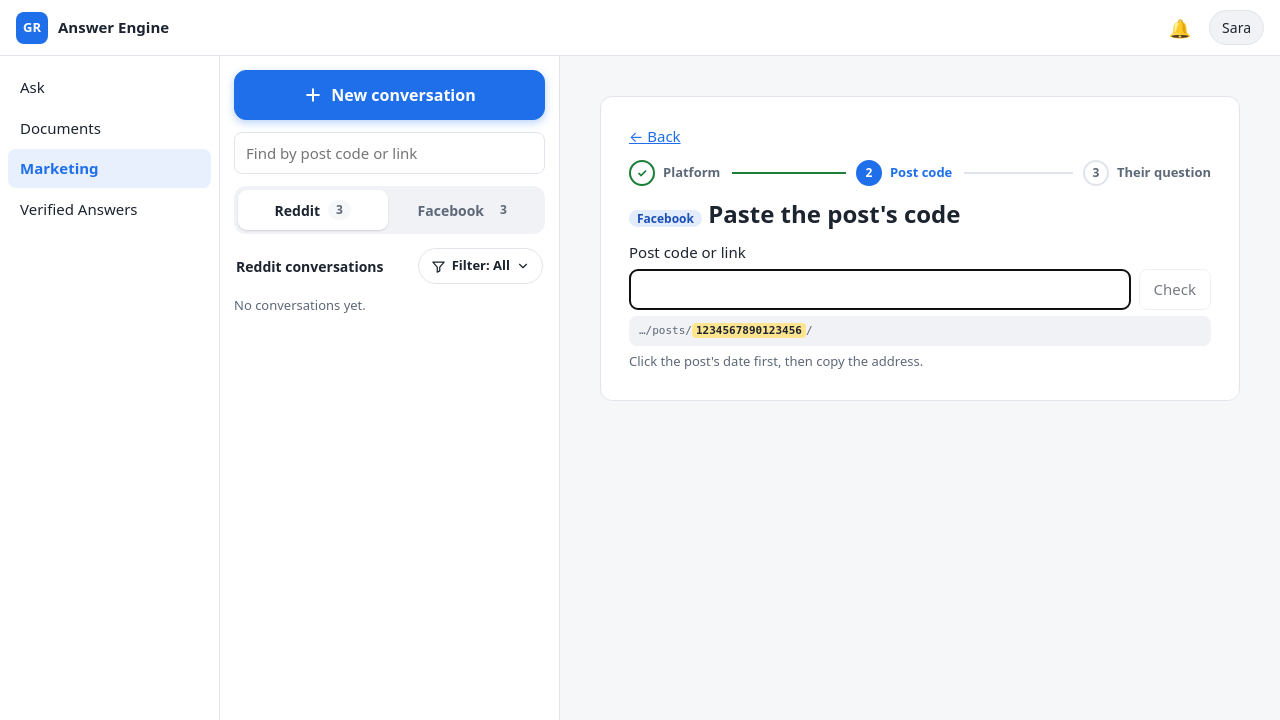
Test: a code for the other platform says so
In the field labelled "Post code or link": (880, 289) [629,269,1131,310], type "1abc2de"
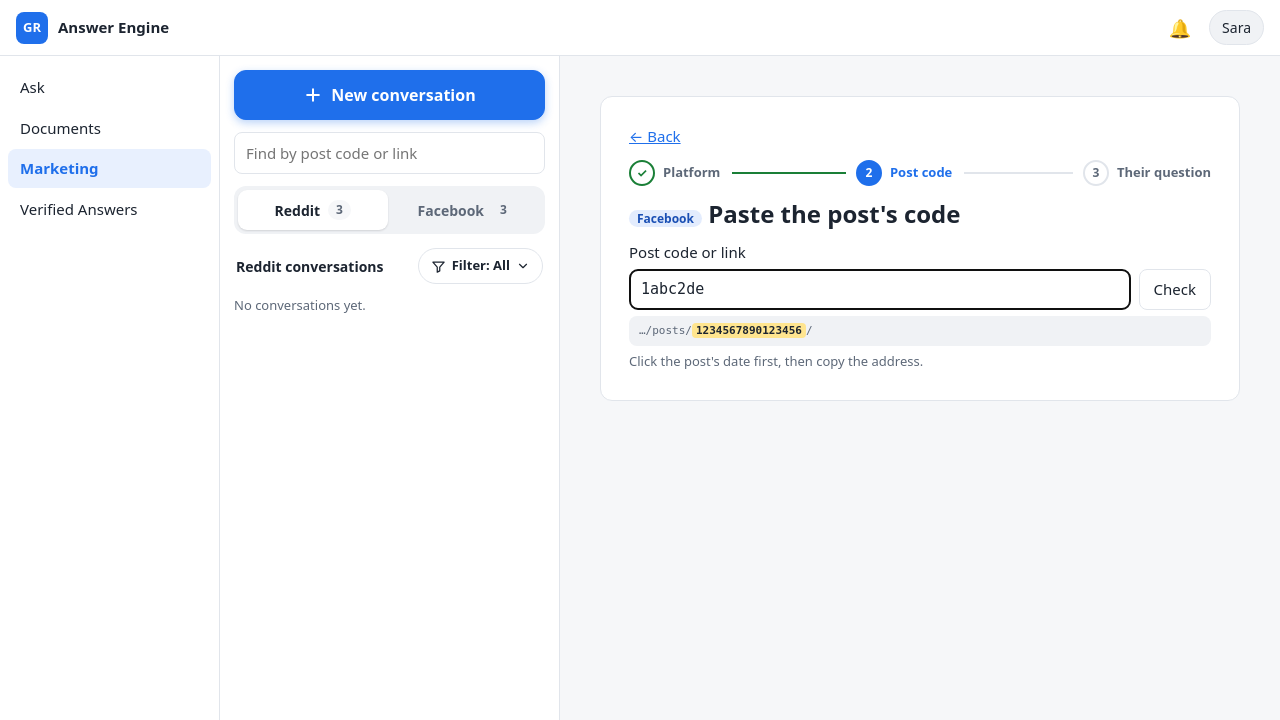
Click the button "Check": (1175, 289) [1139,269,1211,310]
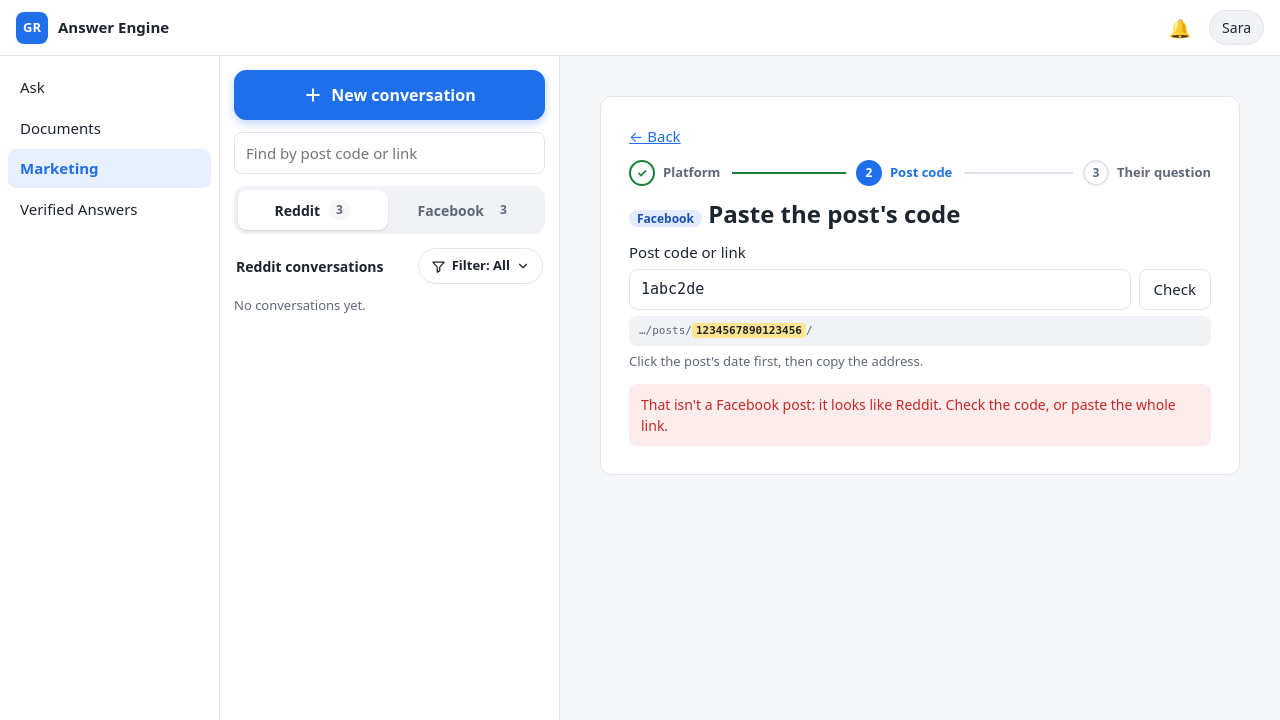
Now the text "That isn't a Facebook post: it looks like Reddit" is shown, box [641,395,1176,435]
